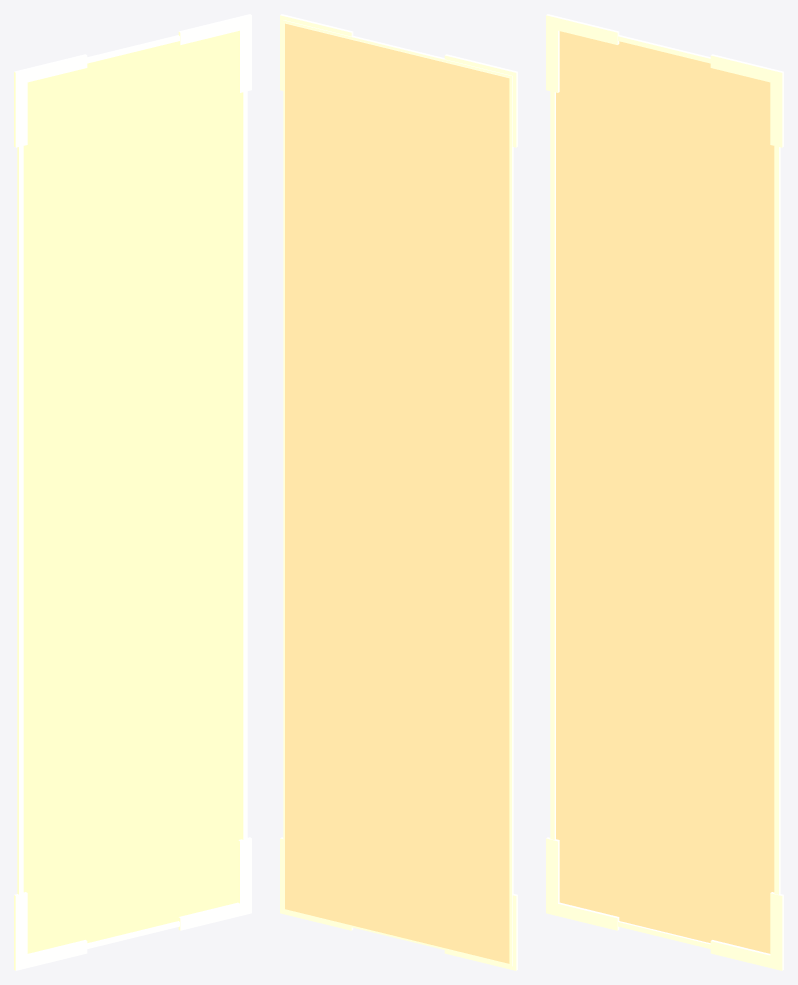
Rendered from slot_outline_6hp.glb.
The picture shows the model from 3 angles, left to right: view 1: azimuth 30°, elevation 25°; view 2: azimuth 150°, elevation 25°; view 3: azimuth 330°, elevation 25°; orthographic projection.
Visible parts, largest first — view 1: SlotOutline_Fill, SlotOutline_Edge, SlotOutline_Corner3, SlotOutline_Corner0, SlotOutline_Corner2, SlotOutline_Corner1; view 2: SlotOutline_Fill, SlotOutline_Edge, SlotOutline_Corner3, SlotOutline_Corner2, SlotOutline_Corner0, SlotOutline_Corner1; view 3: SlotOutline_Fill, SlotOutline_Edge, SlotOutline_Corner2, SlotOutline_Corner1, SlotOutline_Corner3, SlotOutline_Corner0.
Boxes of the visible parts, box(x1,y1,x2,y2) form: SlotOutline_Fill: box(23, 31, 241, 953); SlotOutline_Edge: box(17, 35, 247, 948); SlotOutline_Corner3: box(14, 54, 87, 147); SlotOutline_Corner0: box(14, 892, 87, 970); SlotOutline_Corner2: box(178, 14, 251, 92); SlotOutline_Corner1: box(178, 837, 251, 930); SlotOutline_Fill: box(285, 23, 509, 963); SlotOutline_Edge: box(283, 20, 513, 966); SlotOutline_Corner3: box(444, 54, 517, 147); SlotOutline_Corner2: box(280, 14, 353, 90); SlotOutline_Corner0: box(444, 894, 517, 970); SlotOutline_Corner1: box(280, 837, 353, 930); SlotOutline_Fill: box(556, 31, 774, 953); SlotOutline_Edge: box(550, 35, 780, 948); SlotOutline_Corner2: box(710, 54, 783, 147); SlotOutline_Corner1: box(710, 892, 783, 970); SlotOutline_Corner3: box(546, 14, 619, 92); SlotOutline_Corner0: box(546, 837, 619, 930).
Size of the model in its own units: 0.3168 by 1.15 by 0.006.
